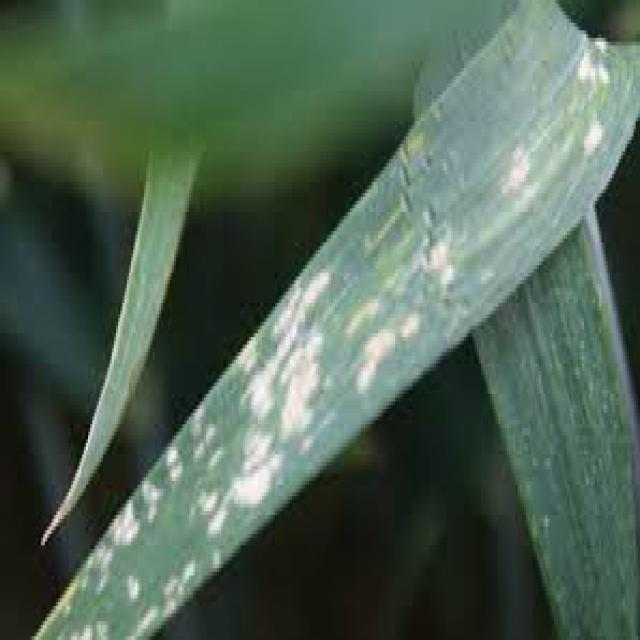wheat-powdery-mildew: (30, 0, 640, 640)
